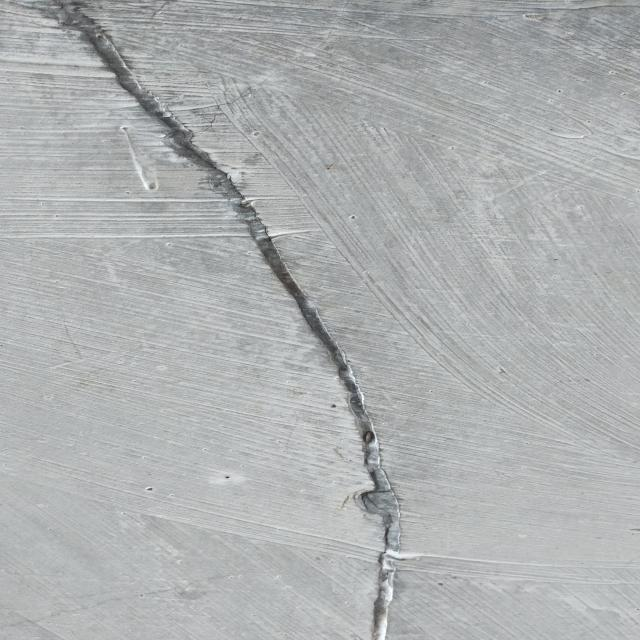Crack: (44, 8, 408, 636)
